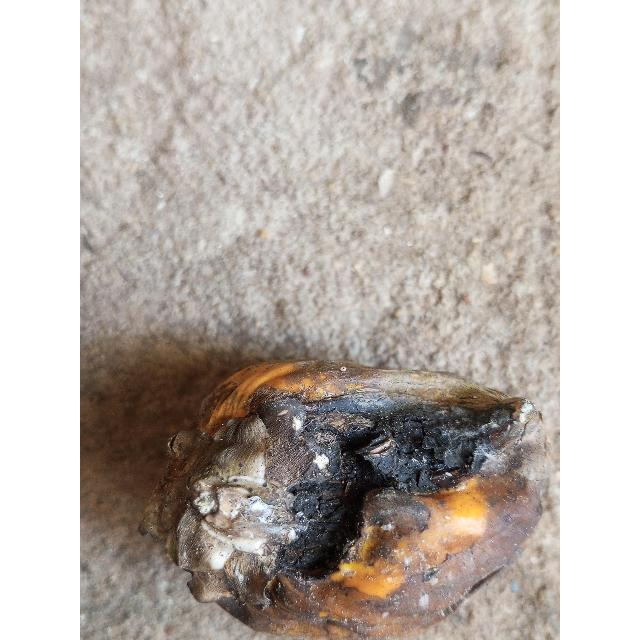damaged: (147, 361, 547, 640)
